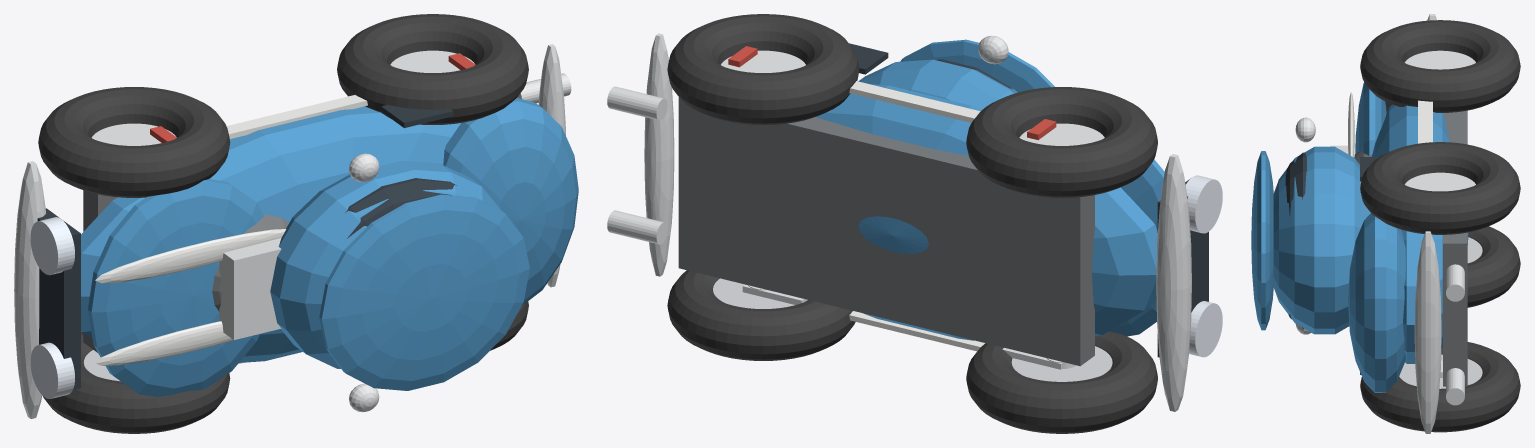
The model's file is blue_car.glb.
3 views of the same model, side by side, from view 1: azimuth 30°, elevation 25°; view 2: azimuth 150°, elevation 25°; view 3: azimuth 270°, elevation 25° (orthographic). The views are drawn at different scales.
Visible parts, largest first — view 1: Roof_Skin, Hood, Body_Main, FrontWheel_R, RearWheel_R, Rear_Quarter, Cabin, FrontWheel_L, Front_Bumper, Engine_Intake, Front_Grille, Hood_Stripe_2 (+14 smaller); view 2: Chassis, FrontWheel_R, RearWheel_R, Body_Main, FrontWheel_L, RearWheel_L, Front_Bumper, Rear_Bumper, Cabin, Roof_Skin, Hood, Side_Stripe_R (+12 smaller); view 3: Cabin, RearWheel_R, FrontWheel_R, Rear_Quarter, RearWheel_L, Rear_Bumper, Body_Main, Chassis, Roof_Skin, FrontWheel_L, Hood, FrontBrakeDisc_R (+9 smaller).
Boxes of the visible parts, x1,y1,x2,y2 form: Roof_Skin: [319, 194, 529, 390]; Hood: [88, 179, 264, 397]; Body_Main: [81, 106, 460, 362]; FrontWheel_R: [38, 87, 230, 197]; RearWheel_R: [337, 14, 528, 124]; Rear_Quarter: [443, 97, 578, 305]; Cabin: [270, 161, 501, 368]; FrontWheel_L: [43, 332, 230, 433]; Front_Bumper: [14, 161, 46, 418]; Engine_Intake: [219, 238, 281, 339]; Front_Grille: [37, 208, 80, 389]; Hood_Stripe_2: [95, 229, 286, 283]; Chassis: [678, 97, 1094, 366]; FrontWheel_R: [966, 87, 1157, 197]; RearWheel_R: [667, 14, 859, 124]; Body_Main: [815, 84, 1157, 340]; FrontWheel_L: [966, 331, 1157, 433]; RearWheel_L: [667, 270, 855, 360]; Front_Bumper: [1156, 154, 1191, 411]; Rear_Bumper: [644, 33, 674, 276]; Cabin: [858, 59, 1017, 109]; Roof_Skin: [900, 39, 1054, 92]; Hood: [1109, 159, 1164, 336]; Side_Stripe_R: [849, 81, 980, 122]; Cabin: [1273, 146, 1370, 334]; RearWheel_R: [1360, 142, 1520, 234]; FrontWheel_R: [1360, 20, 1520, 112]; Rear_Quarter: [1348, 213, 1405, 392]; RearWheel_L: [1360, 342, 1520, 432]; Rear_Bumper: [1414, 231, 1441, 433]; Body_Main: [1372, 104, 1468, 363]; Chassis: [1443, 110, 1467, 386]; Roof_Skin: [1251, 151, 1273, 330]; FrontWheel_L: [1467, 226, 1520, 307]; Hood: [1355, 82, 1386, 156]; FrontBrakeDisc_R: [1404, 50, 1475, 69].
Size of the model in its own units: 3.99 by 1.92 by 1.98.
